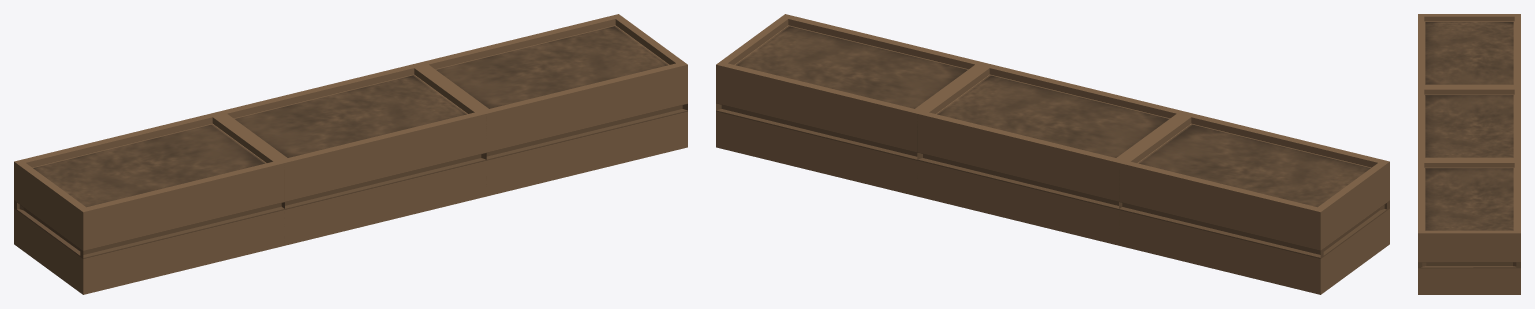
Rendered from planter3.gltf.
3 views of the same model, side by side, from view 1: azimuth 30°, elevation 25°; view 2: azimuth 150°, elevation 25°; view 3: azimuth 270°, elevation 25° (orthographic). The views are drawn at different scales.
Parts seen in each view (by area): view 1: Cube, Cube.002, Cube.001; view 2: Cube, Cube.002, Cube.001; view 3: Cube.002, Cube, Cube.001.
Boxes of the visible parts, x1,y1,x2,y2 form: Cube: (14,112,284,294); Cube.002: (417,14,687,196); Cube.001: (216,63,486,245); Cube: (1119,112,1389,294); Cube.002: (716,14,986,196); Cube.001: (917,63,1187,245); Cube.002: (1418,160,1520,294); Cube: (1418,14,1520,87); Cube.001: (1418,87,1520,160).
Size of the model in its own units: 3 by 0.3927 by 0.5954.
Materials: 2 (2 with a texture image).
